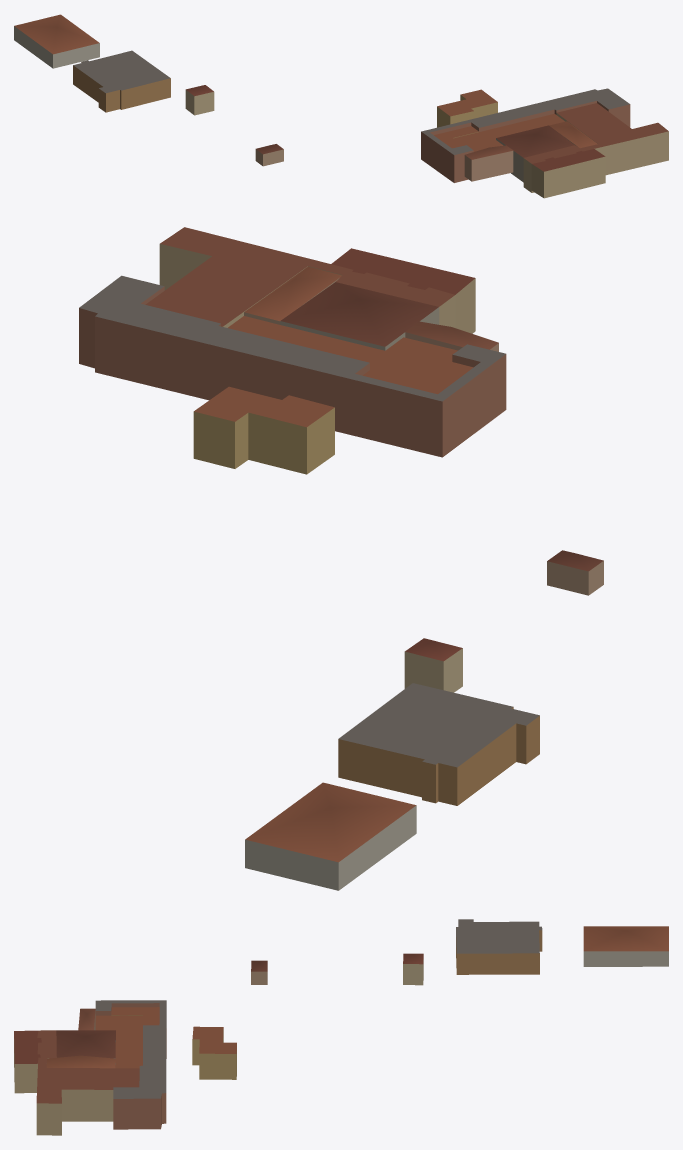
File: SM_Fondale_Citta_Colle_02.fbx
3 renders of one model, top to bottom at view 1: azimuth 30°, elevation 25°; view 2: azimuth 150°, elevation 25°; view 3: azimuth 270°, elevation 25°, orthographic. The views are drawn at different scales.
Visible parts, largest first — view 1: SM_Fondale_Citta_Colle_02; view 2: SM_Fondale_Citta_Colle_02; view 3: SM_Fondale_Citta_Colle_02.
Boxes of the visible parts, x1=… form: SM_Fondale_Citta_Colle_02: x1=14, y1=14, x2=668, y2=198; SM_Fondale_Citta_Colle_02: x1=79, y1=227, x2=603, y2=890; SM_Fondale_Citta_Colle_02: x1=14, y1=919, x2=668, y2=1135.
Size of the model in its own units: 21382 by 29846 by 2165.
